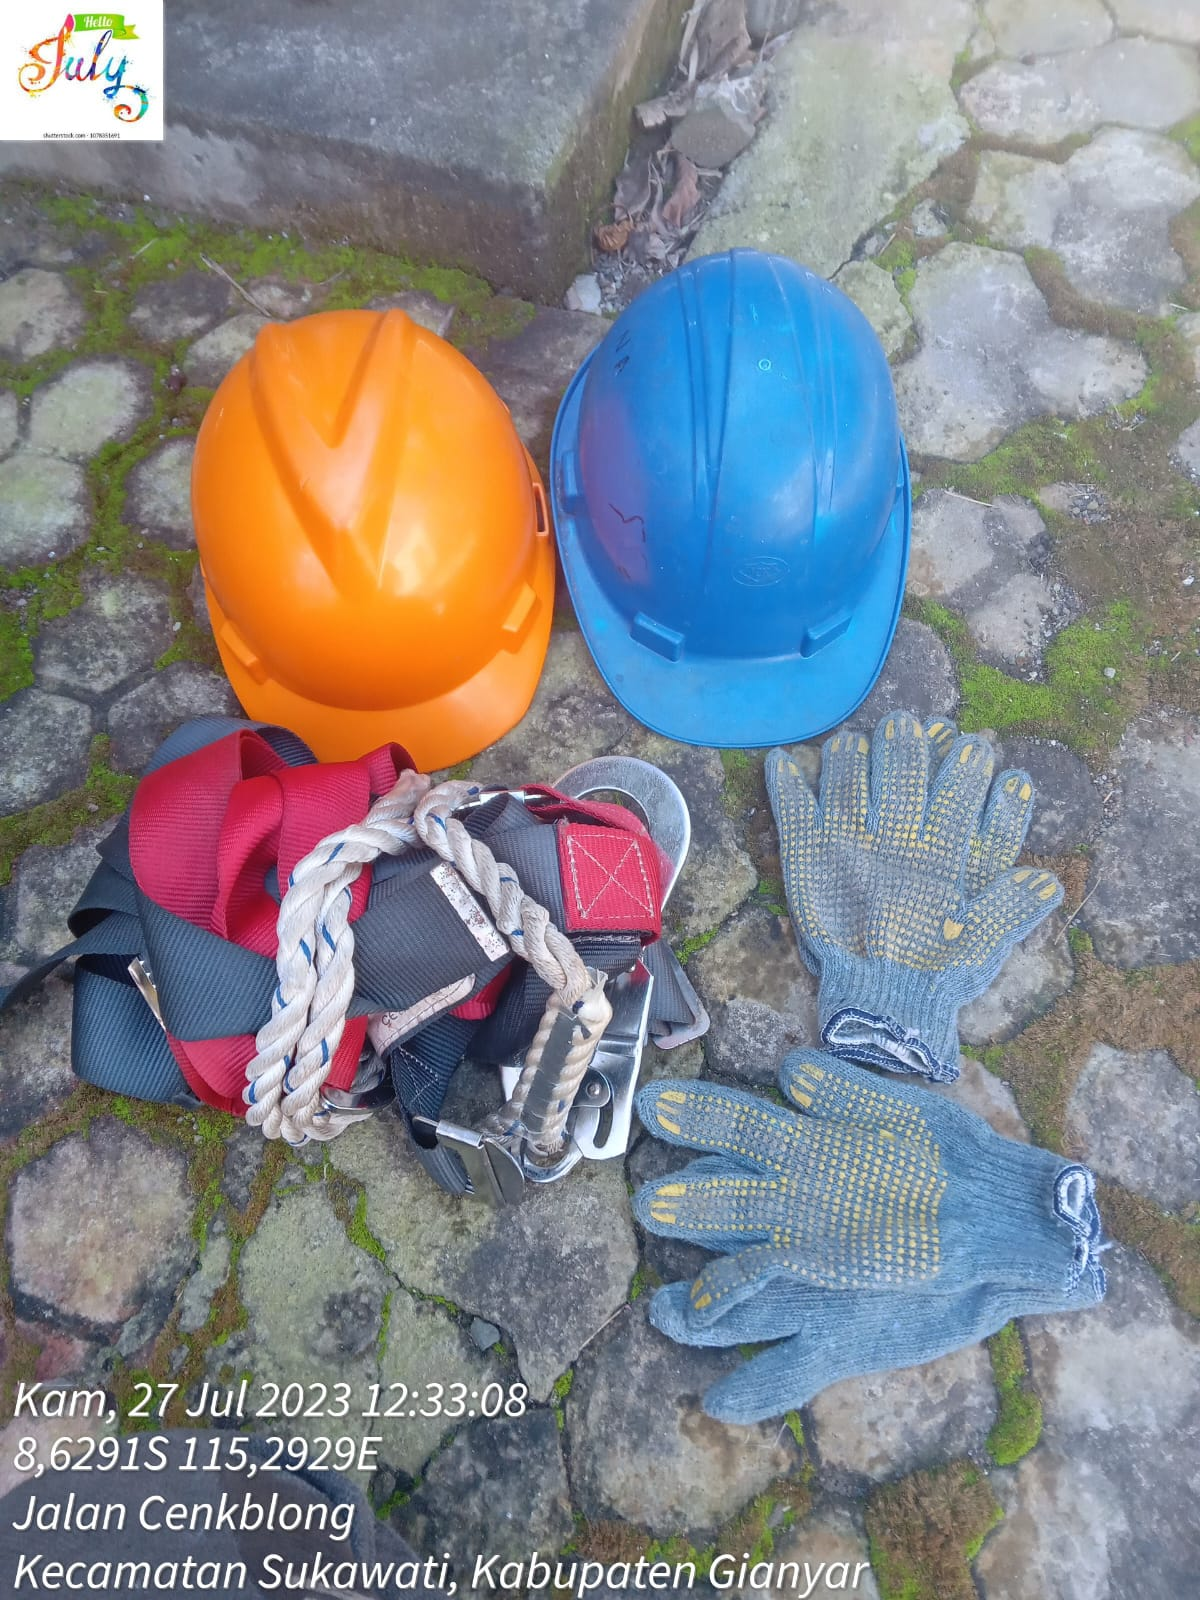SARUNG_TANGAN: (789, 734, 1011, 1073)
TAMBANG_SLING: (81, 779, 609, 1141)
